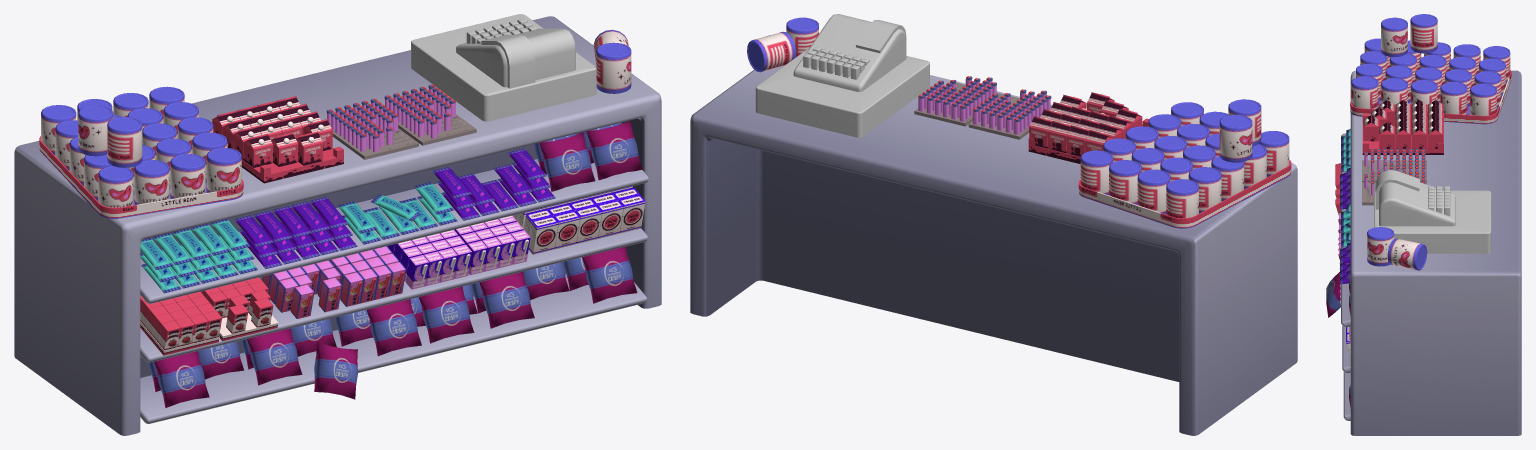
File: asset_counter (1).fbx
3 renders of one model, left to right at view 1: azimuth 30°, elevation 25°; view 2: azimuth 150°, elevation 25°; view 3: azimuth 270°, elevation 25°, orthographic. The views are drawn at different scales.
Parts seen in each view (by area): view 1: asset_counter; view 2: asset_counter; view 3: asset_counter.
Part boxes in pixels (x1,y1,x2,y2): asset_counter: (14,14,661,435); asset_counter: (690,14,1297,435); asset_counter: (1326,14,1521,435).
Bounding box in the file's own units: 294 × 147 × 117.
